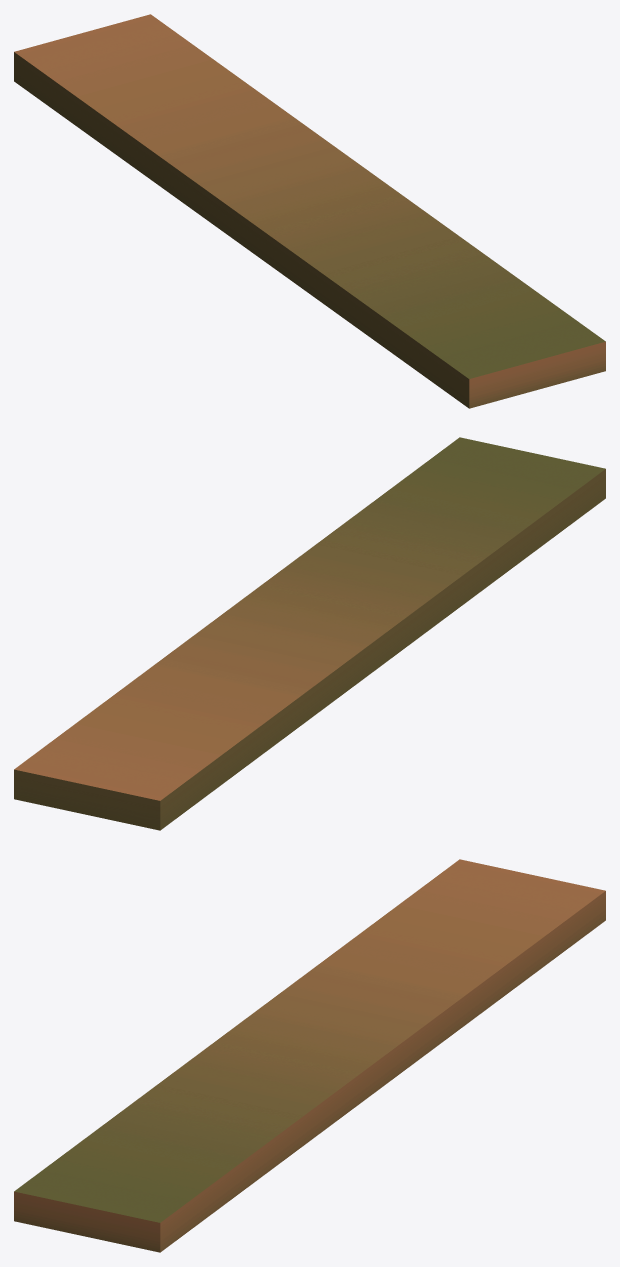
3 renders of one model, top to bottom at view 1: azimuth 30°, elevation 25°; view 2: azimuth 150°, elevation 25°; view 3: azimuth 330°, elevation 25°, orthographic.
Parts seen in each view (by area): view 1: Object048; view 2: Object048; view 3: Object048.
Part boxes in pixels (x1,y1,x2,y2): Object048: [14, 14, 605, 408]; Object048: [14, 437, 605, 830]; Object048: [14, 859, 605, 1252].
Bounding box in the file's own units: 71.29 × 13.68 × 381.
